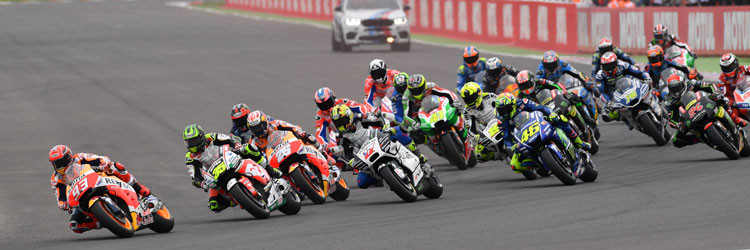helmet: (456, 77, 483, 111), (327, 104, 354, 135), (362, 55, 387, 87), (660, 68, 690, 93), (647, 16, 673, 42), (718, 50, 742, 76), (44, 138, 70, 161), (485, 53, 505, 81), (536, 44, 556, 67), (458, 41, 475, 64)
